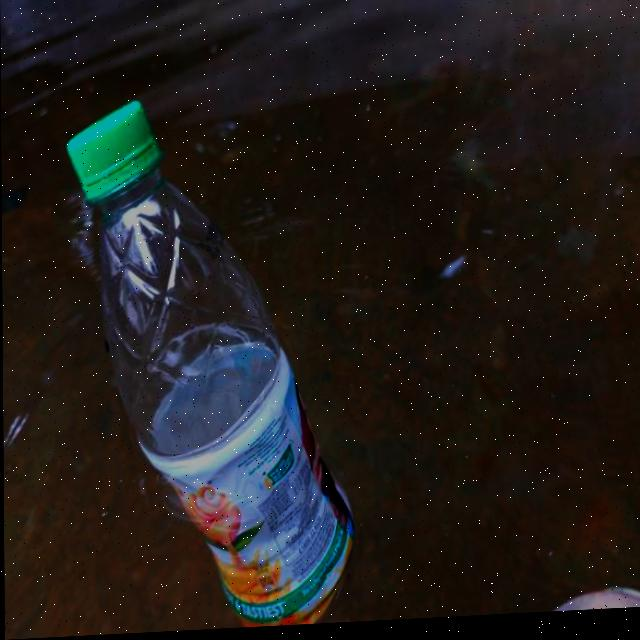waterbottle: (53, 83, 393, 638), (503, 569, 640, 620)
